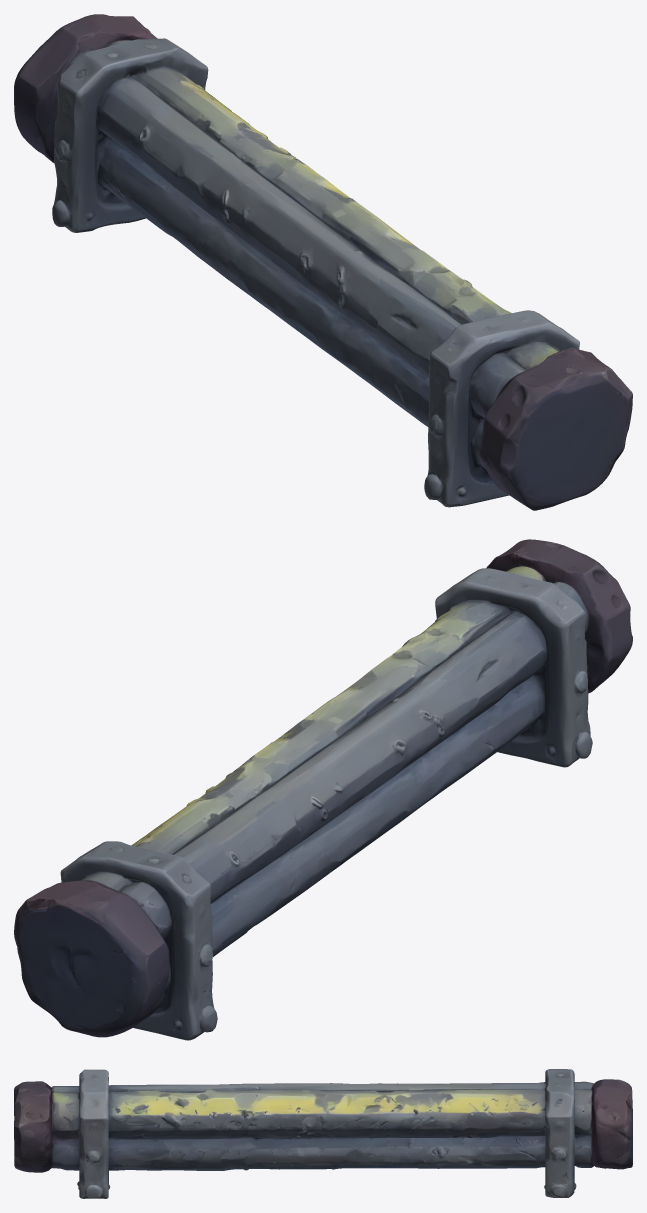
Rendered from line_pipes.glb.
3 views of the same model, one above another, from view 1: azimuth 30°, elevation 25°; view 2: azimuth 150°, elevation 25°; view 3: azimuth 270°, elevation 25° (orthographic). The views are drawn at different scales.
Parts seen in each view (by area): view 1: tripo_node_f2812a22-c874-49d5-b78d-a195dcf49d8b; view 2: tripo_node_f2812a22-c874-49d5-b78d-a195dcf49d8b; view 3: tripo_node_f2812a22-c874-49d5-b78d-a195dcf49d8b.
Part boxes in pixels (bbox=[...]): tripo_node_f2812a22-c874-49d5-b78d-a195dcf49d8b: bbox=[14, 14, 632, 510]; tripo_node_f2812a22-c874-49d5-b78d-a195dcf49d8b: bbox=[14, 539, 632, 1040]; tripo_node_f2812a22-c874-49d5-b78d-a195dcf49d8b: bbox=[14, 1069, 632, 1198].
Bounding box in the file's own units: 0.1684 × 0.1803 × 0.9798.
Materials: 1 (1 with a texture image).
